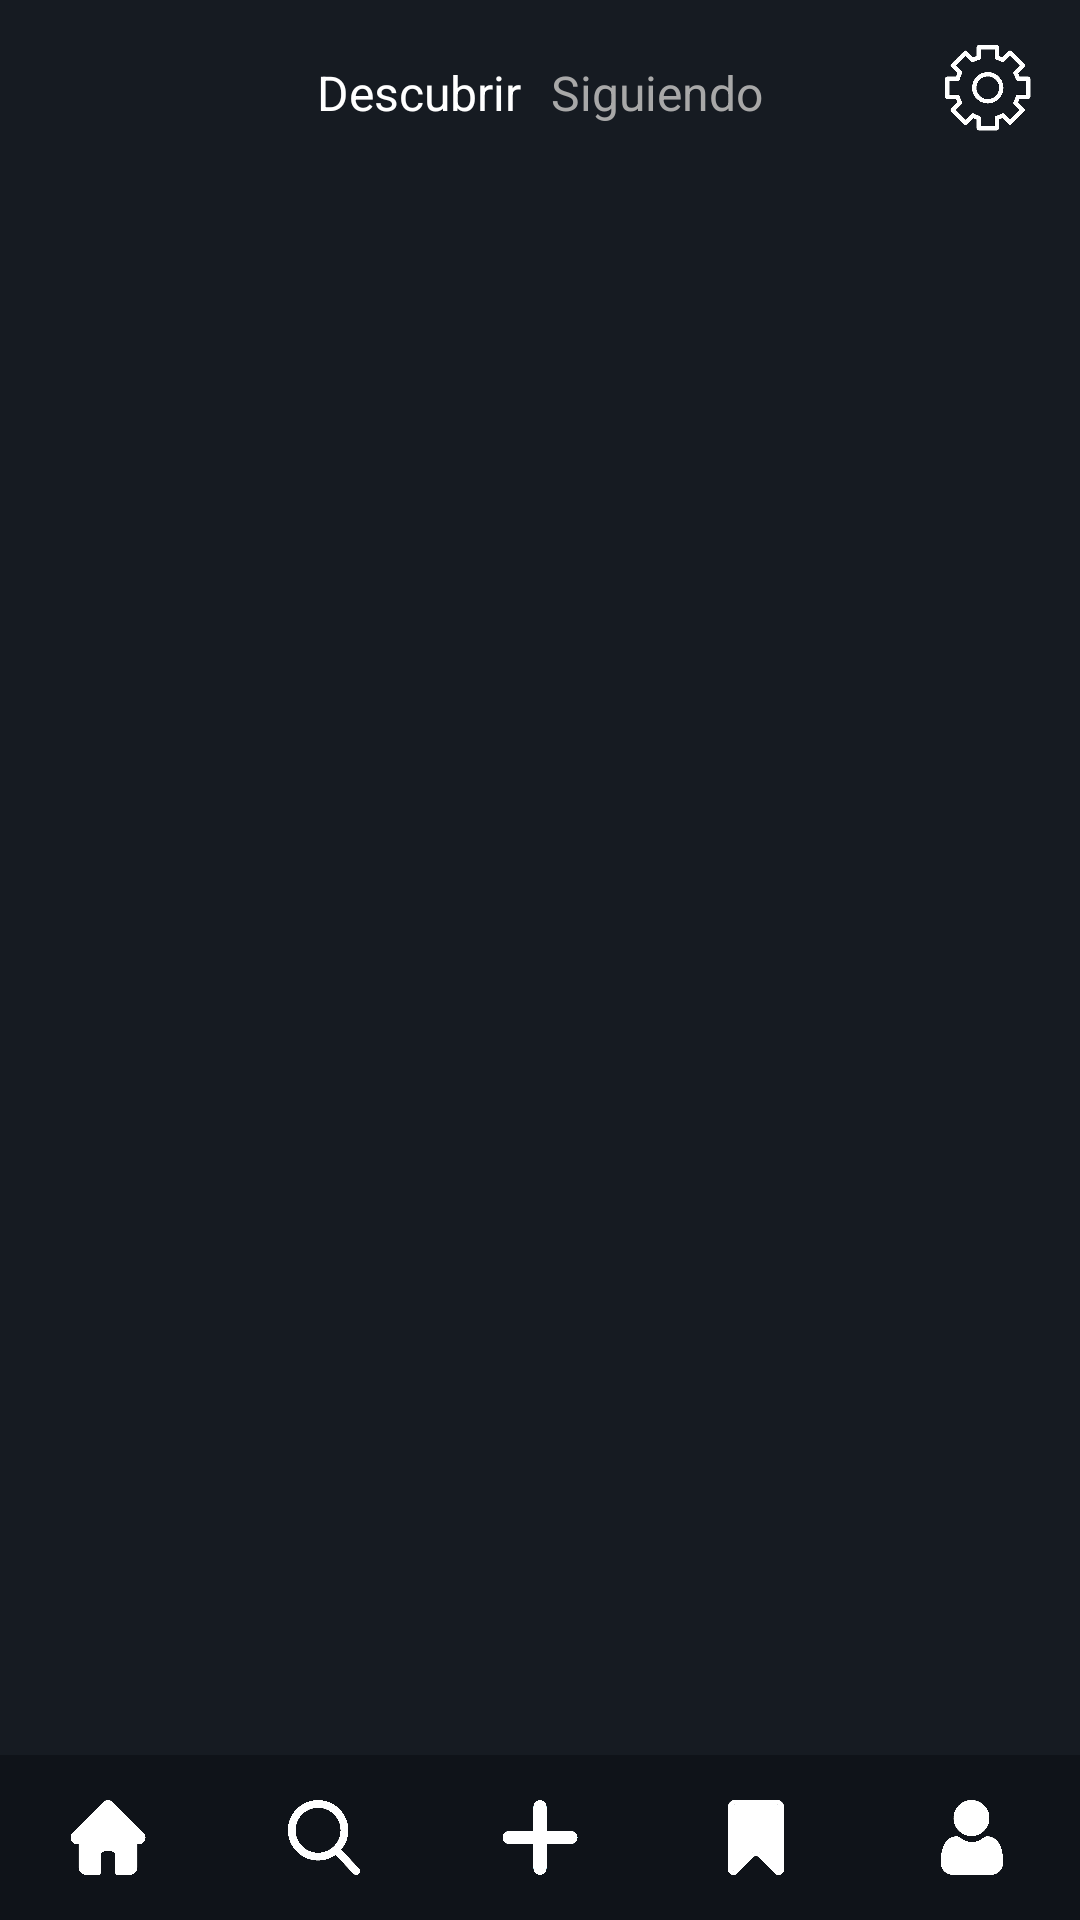

Where icons sit on this 1080w x 1920h app screen, as Rect(x1, y1, x2, y2):
ajustes: Rect(945, 45, 1031, 131)
home: Rect(71, 1800, 146, 1875)
perfil: Rect(941, 1800, 1003, 1875)
plus: Rect(503, 1800, 578, 1875)
saved: Rect(728, 1800, 784, 1875)
search: Rect(288, 1800, 360, 1875)
